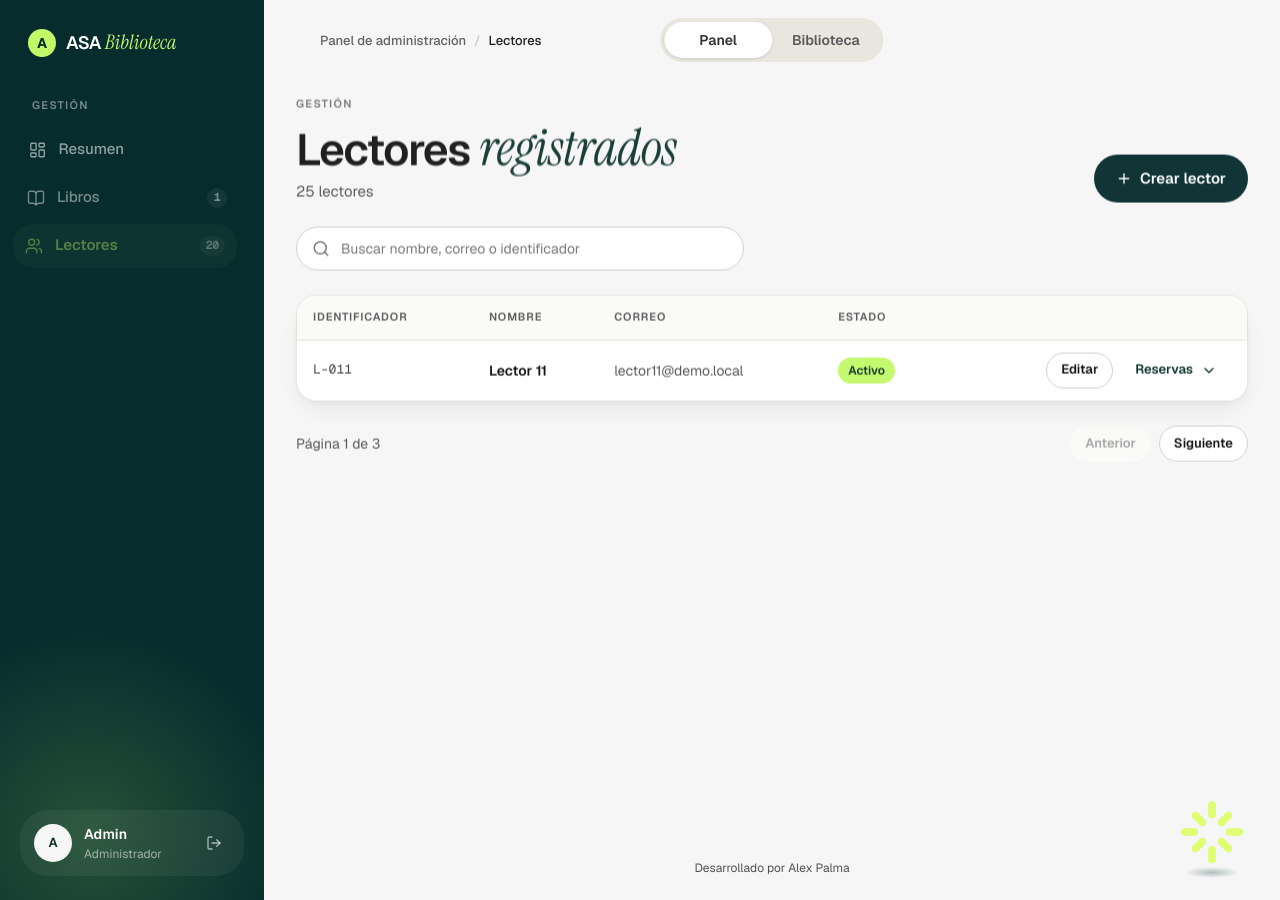
Test case: admin: paginador de lectores › muestra «Página X de N» con totalPages de la respuesta y Siguiente pide la página 2
Expected: the text "Página 1 de 3" is shown, 296,433 -> 380,453
Expected: the button "Anterior" is disabled, 1070,425 -> 1151,461
Click the button "Siguiente" at [1203, 443], box 1159,425 -> 1248,461
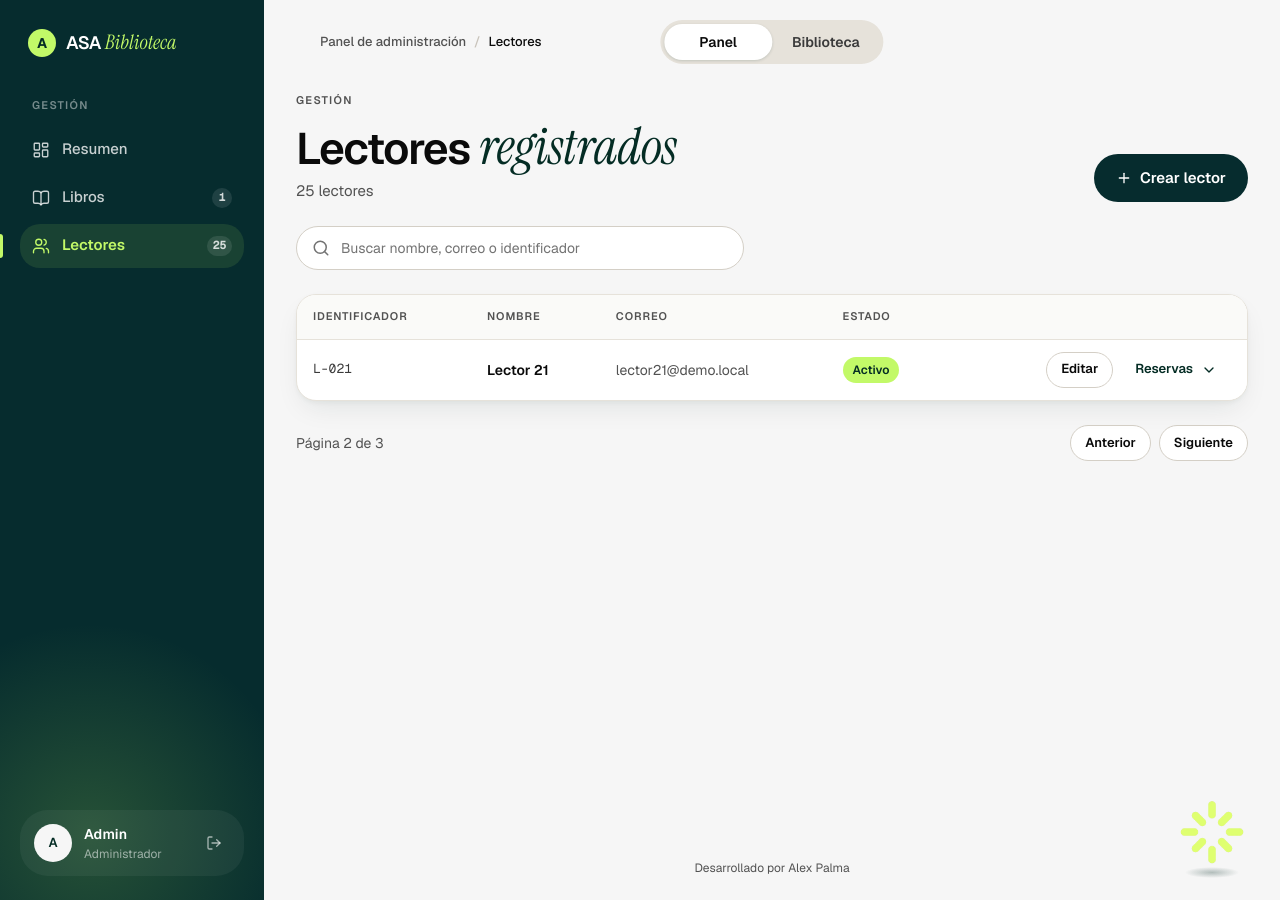
Now the text "Lector 21" is shown, box 471,339 -> 600,400
Now the text "Página 2 de 3" is shown, box 296,432 -> 384,452
